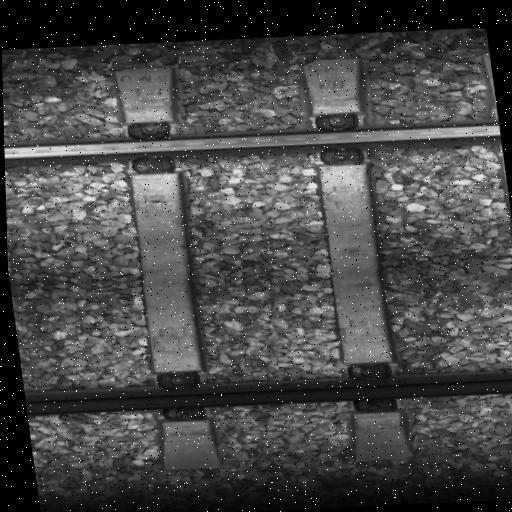sleeper: (300, 55, 414, 465), (117, 64, 224, 473)
